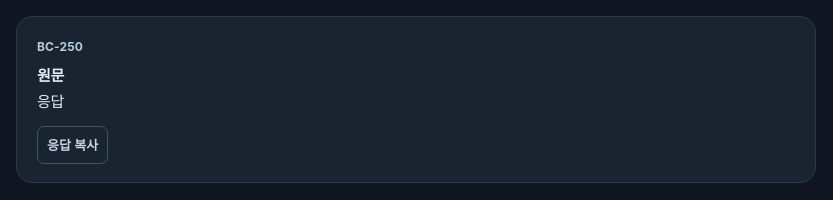
copies the original response including markdown
Click the button "응답 복사" at (73, 145), box 37,126 -> 108,164
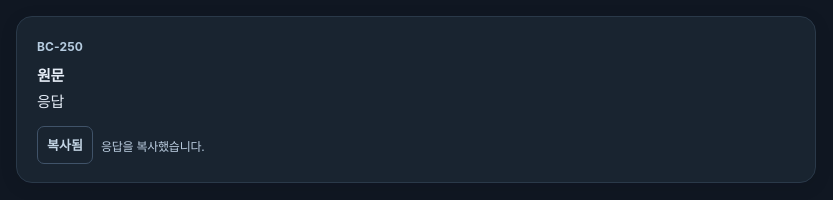
Result: the text "응답을 복사했습니다." is shown at 101,137 -> 204,154
